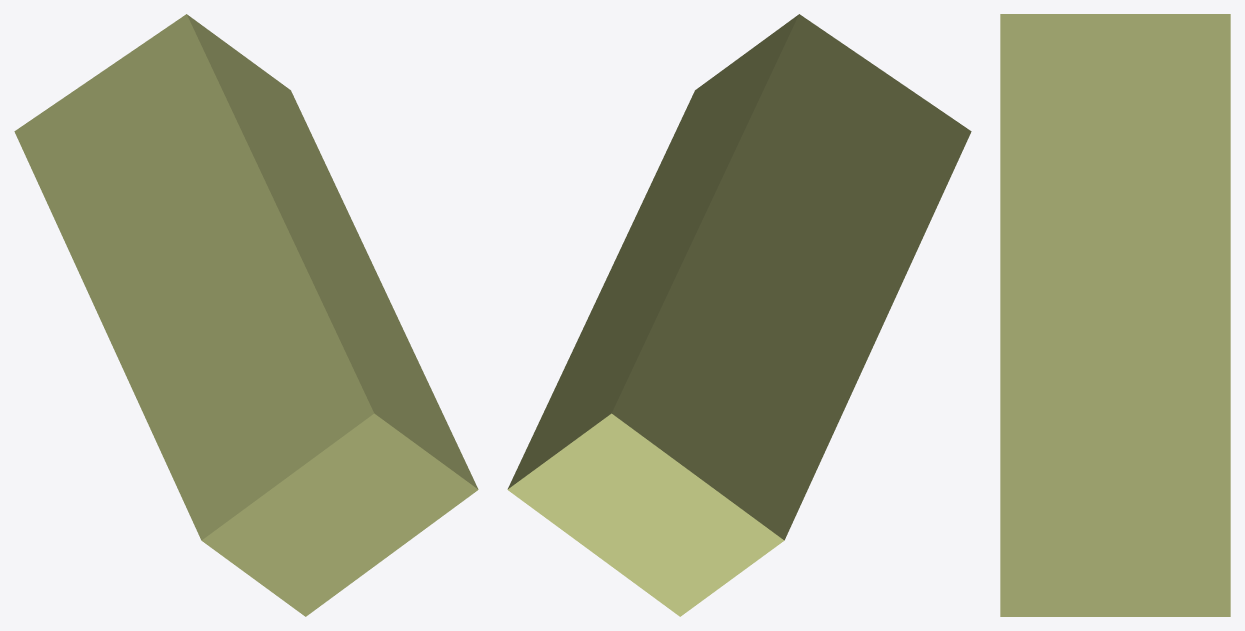
The picture shows the model from 3 angles, left to right: view 1: azimuth 30°, elevation 25°; view 2: azimuth 150°, elevation 25°; view 3: azimuth 270°, elevation 25°; orthographic projection. The views are drawn at different scales.
Visible parts, largest first — view 1: 0_1_1_3_3_0_3_2_1; view 2: 0_1_1_3_3_0_3_2_1; view 3: 0_1_1_3_3_0_3_2_1.
Boxes of the visible parts, x1,y1,x2,y2 form: 0_1_1_3_3_0_3_2_1: (14, 14, 478, 616); 0_1_1_3_3_0_3_2_1: (507, 14, 971, 616); 0_1_1_3_3_0_3_2_1: (1000, 14, 1230, 616).
Bounding box in the file's own units: 11.96 × 16.83 × 6.
